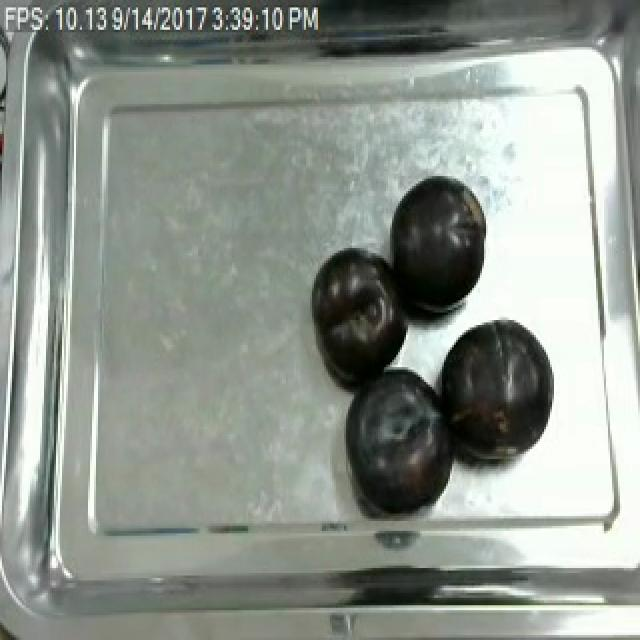Fruit: (336, 359, 460, 518), (432, 310, 558, 466), (380, 171, 490, 323), (306, 243, 408, 387)
